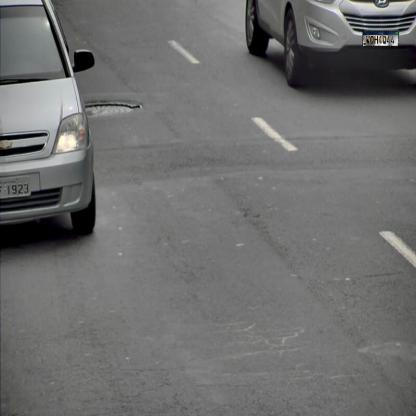PlacaM: (362, 30, 399, 46)
